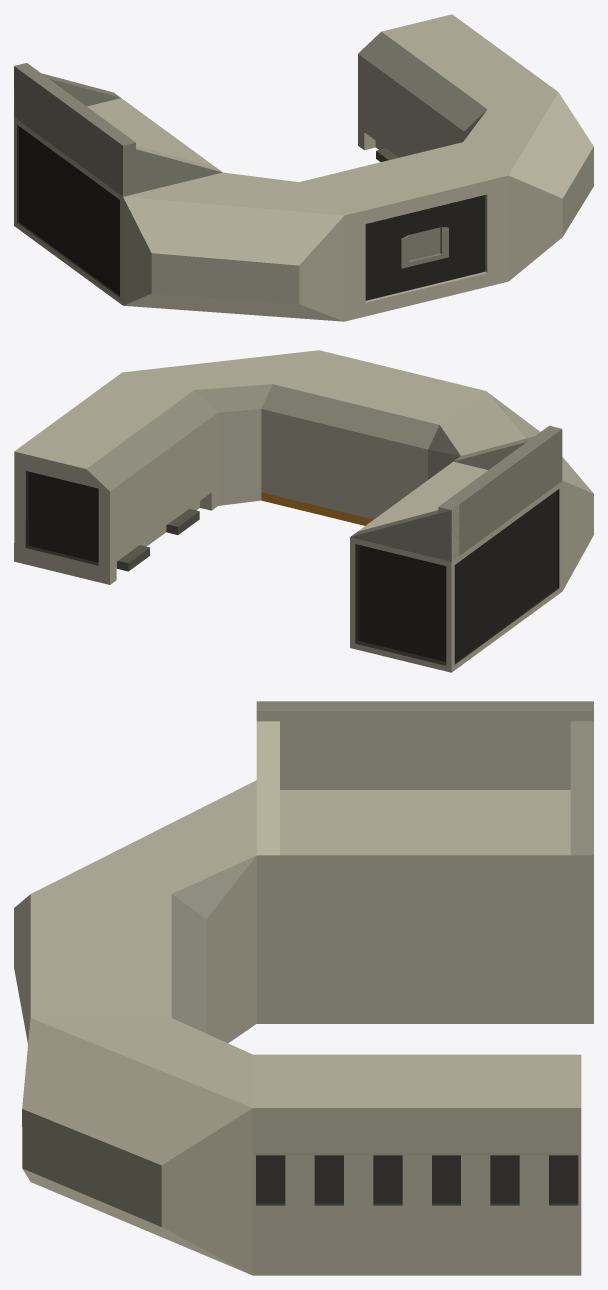
File: OmniDesk.glb
3 renders of one model, top to bottom at view 1: azimuth 30°, elevation 25°; view 2: azimuth 150°, elevation 25°; view 3: azimuth 270°, elevation 25°, orthographic. The views are drawn at different scales.
Visible parts, largest first — view 1: Cube; view 2: Cube; view 3: Cube.
Boxes of the visible parts, x1,y1,x2,y2 form: Cube: [14, 14, 593, 321]; Cube: [14, 350, 593, 672]; Cube: [14, 701, 593, 1275].
Size of the model in its own units: 3.67 by 1.27 by 2.7.
